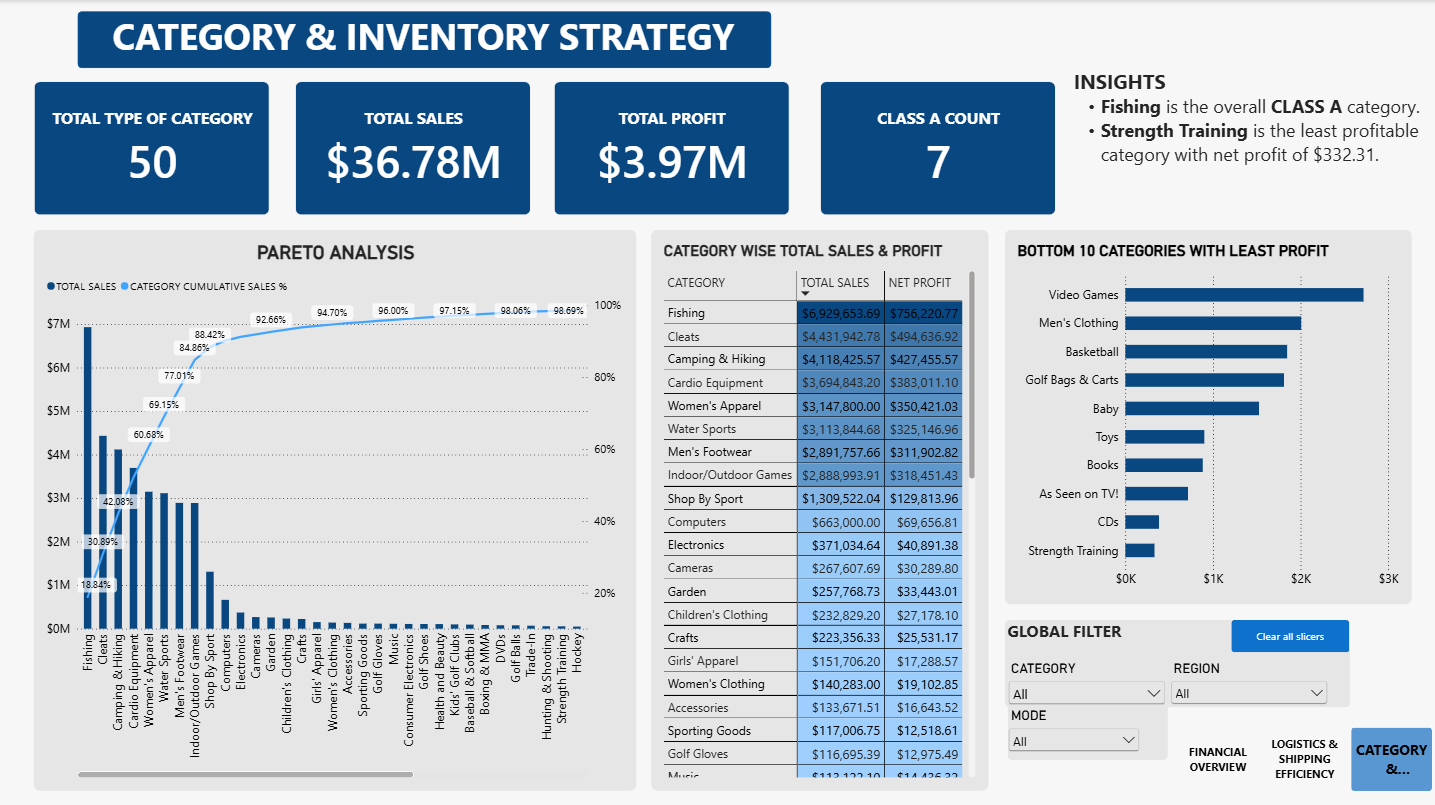

What the dashboard file says about the page in this screenshot:
{"tool":"powerbi","page":{"name":"CATEGORY & INVENTORY","canvas":[1920,1080],"ordinal":2},"visuals":[{"type":"shape","box":[103.9,15.1,926.9,76.1],"z":0},{"type":"shape","box":[1341.8,828.9,461,116.9],"z":1000},{"type":"pageNavigator","box":[1572.6,971.8,342,85.1],"z":1000},{"type":"shape","box":[1346.1,926.3,214.3,88.7],"z":2000},{"type":"textbox","box":[99.6,15.1,930.6,93.1],"z":3000},{"type":"cardVisual","fields":{"Data":["Count(public supply_chain_clean.category_name)"]},"box":[45.4,108.2,316,179.6],"z":4000},{"type":"cardVisual","fields":{"Data":["_all_measures.total_sales"]},"box":[393.9,108.2,316,179.6],"z":5000},{"type":"cardVisual","fields":{"Data":["_all_measures.total_profit"]},"box":[740.1,108.2,316,179.6],"z":6000},{"type":"cardVisual","fields":{"Data":["_all_measures.Class A Count"]},"box":[1095.1,108.2,316,179.6],"z":7000},{"type":"lineStackedColumnComboChart","title":"PARETO ANALYSIS","fields":{"Category":["public supply_chain_clean.category_name"],"Y":["_all_measures.total_sales"],"Y2":["_all_measures.Category Cumulative Sales %"]},"box":[45.4,307.3,805.1,748.8],"z":8000},{"type":"pivotTable","title":"CATEGORY WISE TOTAL SALES & PROFIT","fields":{"Rows":["public supply_chain_clean.category_name"],"Values":["_all_measures.total_sales","_all_measures.total_profit"]},"box":[870,307.3,450.1,748.8],"z":9000},{"type":"clusteredBarChart","title":"BOTTOM 10 CATEGORIES WITH LEAST PROFIT","fields":{"Category":["public supply_chain_clean.category_name"],"Y":["_all_measures.total_profit"]},"box":[1341.8,307.3,543.2,499.9],"z":10000},{"type":"slicer","fields":{"Values":["public supply_chain_clean.category_name"]},"box":[1341.8,880.8,218.6,90.9],"z":11000},{"type":"slicer","fields":{"Values":["public supply_chain_clean.order_region"]},"box":[1560.3,880.8,218.6,64.9],"z":12000},{"type":"slicer","fields":{"Values":["public supply_chain_clean.shipping_mode"]},"box":[1341.8,945.7,184,69.3],"z":13000},{"type":"textbox","box":[1346.4,828.8,323.9,34.4],"z":13001},{"type":"actionButton","box":[1644.7,828.9,158,43.3],"z":13002},{"type":"textbox","box":[1434.8,90.9,480.4,196.9],"z":13003}]}

Visuals, with their boxes in screenshot pixels (x1, y1, x2, y2), scaled from the page's 1920x1080 canvas onto the 1435x805 screenshot:
shape: [left=78, top=11, right=770, bottom=68]
shape: [left=1003, top=618, right=1347, bottom=705]
pageNavigator: [left=1175, top=724, right=1431, bottom=788]
shape: [left=1006, top=690, right=1166, bottom=757]
textbox: [left=74, top=11, right=770, bottom=81]
cardVisual - Count(public supply_chain_clean.category_name): [left=34, top=81, right=270, bottom=215]
cardVisual - _all_measures.total_sales: [left=294, top=81, right=531, bottom=215]
cardVisual - _all_measures.total_profit: [left=553, top=81, right=789, bottom=215]
cardVisual - _all_measures.Class A Count: [left=818, top=81, right=1055, bottom=215]
"PARETO ANALYSIS" lineStackedColumnComboChart: [left=34, top=229, right=636, bottom=787]
"CATEGORY WISE TOTAL SALES & PROFIT" pivotTable: [left=650, top=229, right=987, bottom=787]
"BOTTOM 10 CATEGORIES WITH LEAST PROFIT" clusteredBarChart: [left=1003, top=229, right=1409, bottom=602]
slicer - public supply_chain_clean.category_name: [left=1003, top=657, right=1166, bottom=724]
slicer - public supply_chain_clean.order_region: [left=1166, top=657, right=1330, bottom=705]
slicer - public supply_chain_clean.shipping_mode: [left=1003, top=705, right=1140, bottom=757]
textbox: [left=1006, top=618, right=1248, bottom=643]
actionButton: [left=1229, top=618, right=1347, bottom=650]
textbox: [left=1072, top=68, right=1431, bottom=215]
